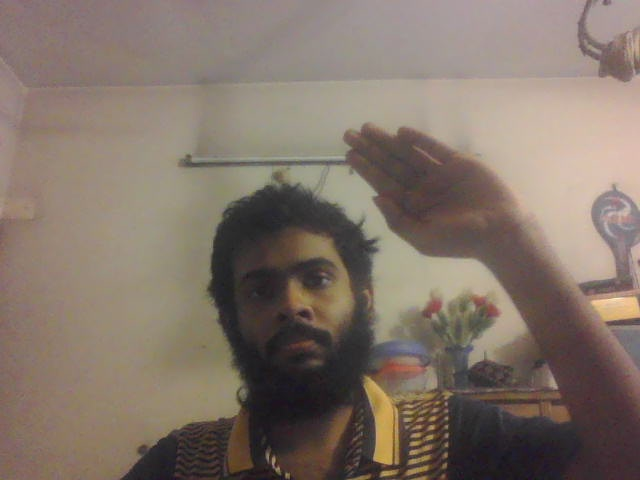Hello: (341, 124, 544, 254)
